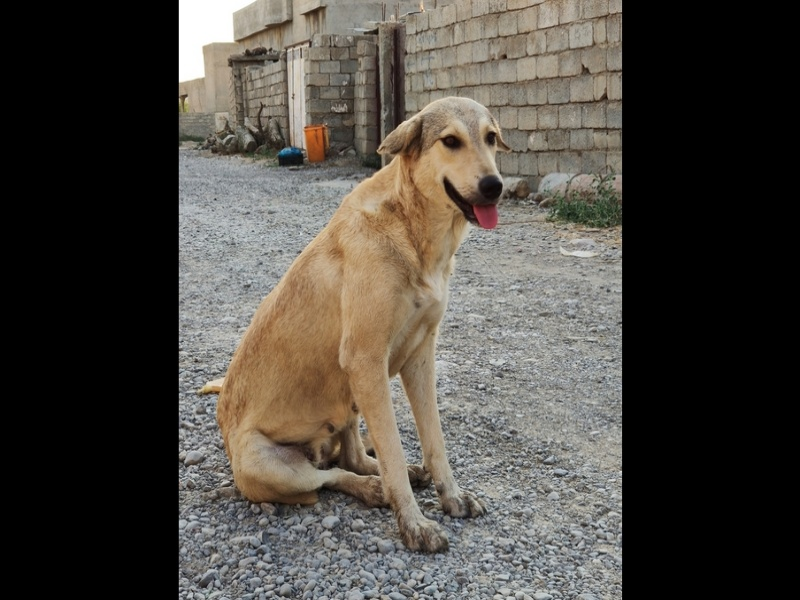dog: (196, 88, 515, 551)
